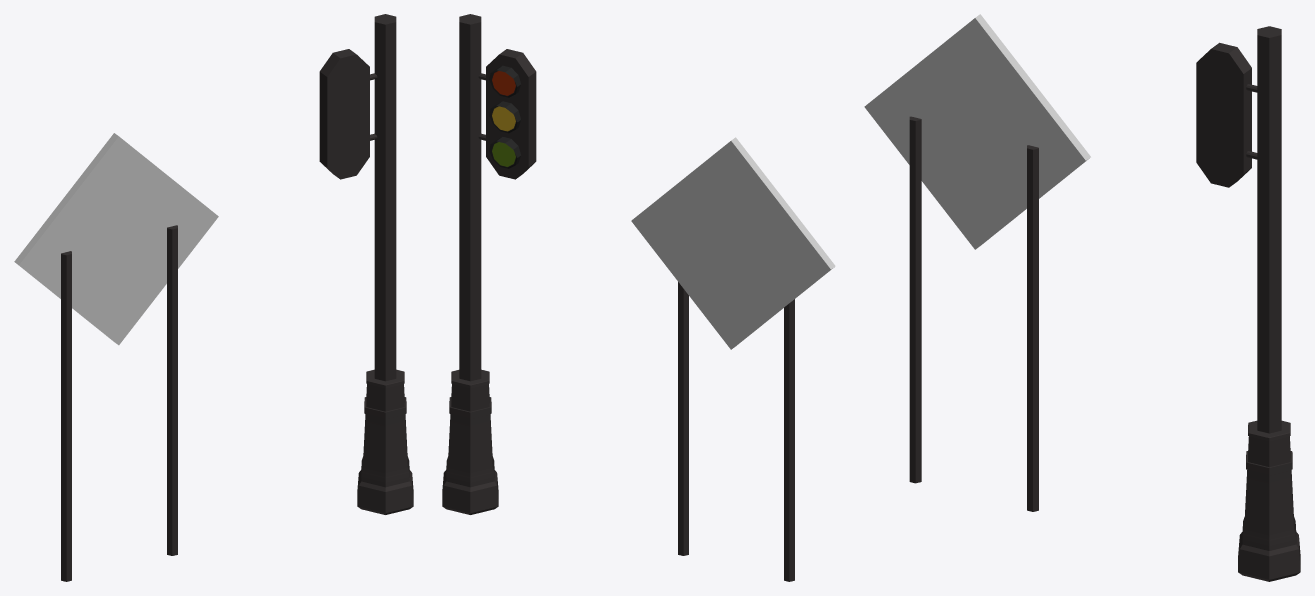
File: traffic.fbx
The picture shows the model from 3 angles, left to right: view 1: azimuth 30°, elevation 25°; view 2: azimuth 150°, elevation 25°; view 3: azimuth 330°, elevation 25°; orthographic projection. The views are drawn at different scales.
Parts seen in each view (by area): view 1: pCube1, pCylinder11, pCylinder12; view 2: pCube1, pCylinder11, pCylinder12, pCylinder6, pCylinder7, pCylinder8; view 3: pCube1, pCylinder11, pCylinder12.
Boxes of the visible parts, box(x1,y1,x2,y2) form: pCube1: box(14, 133, 218, 345); pCylinder11: box(319, 14, 413, 514); pCylinder12: box(61, 225, 177, 581); pCube1: box(631, 137, 835, 349); pCylinder11: box(442, 14, 536, 514); pCylinder12: box(678, 282, 794, 581); pCylinder6: box(489, 65, 520, 97); pCylinder7: box(489, 101, 520, 133); pCylinder8: box(489, 137, 520, 168); pCube1: box(864, 14, 1090, 249); pCylinder11: box(1196, 26, 1300, 581); pCylinder12: box(909, 116, 1038, 511).
Bounding box in the file's own units: 11.99 × 14.06 × 1.49.
